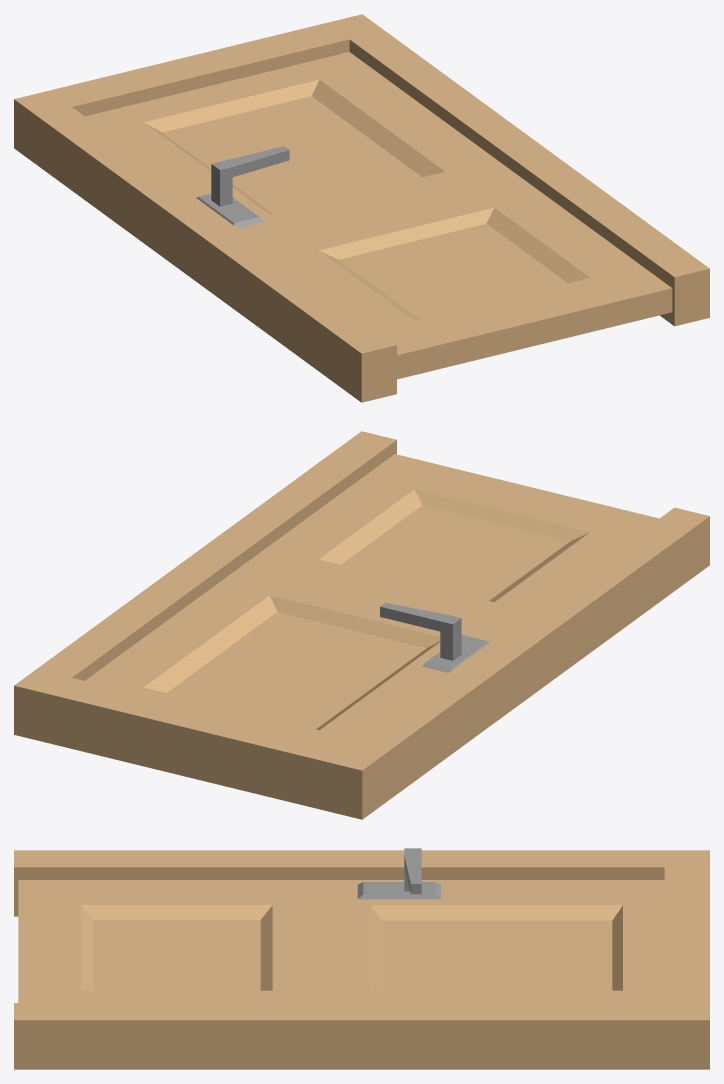
Rendered from Door.fbx.
The picture shows the model from 3 angles, top to bottom: view 1: azimuth 30°, elevation 25°; view 2: azimuth 150°, elevation 25°; view 3: azimuth 270°, elevation 25°; orthographic projection.
Parts seen in each view (by area): view 1: 立方体.001; view 2: 立方体.001; view 3: 立方体.001.
Boxes of the visible parts, x1,y1,x2,y2 form: 立方体.001: [14, 14, 709, 402]; 立方体.001: [14, 431, 709, 819]; 立方体.001: [14, 848, 709, 1069].
Bounding box in the file's own units: 7.33 × 2.1 × 12.67.
